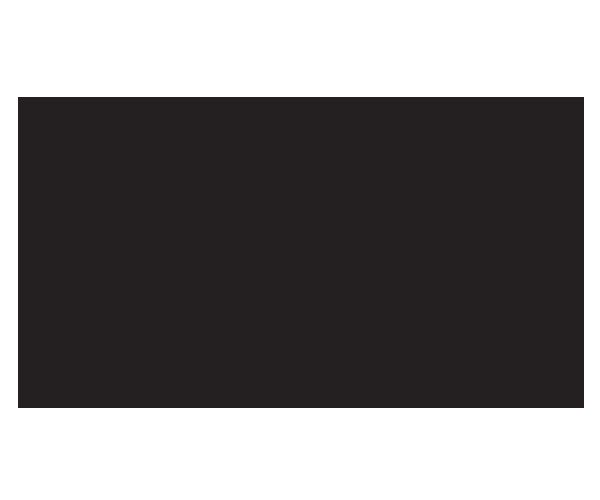rectangulo: (18, 96, 585, 407)
